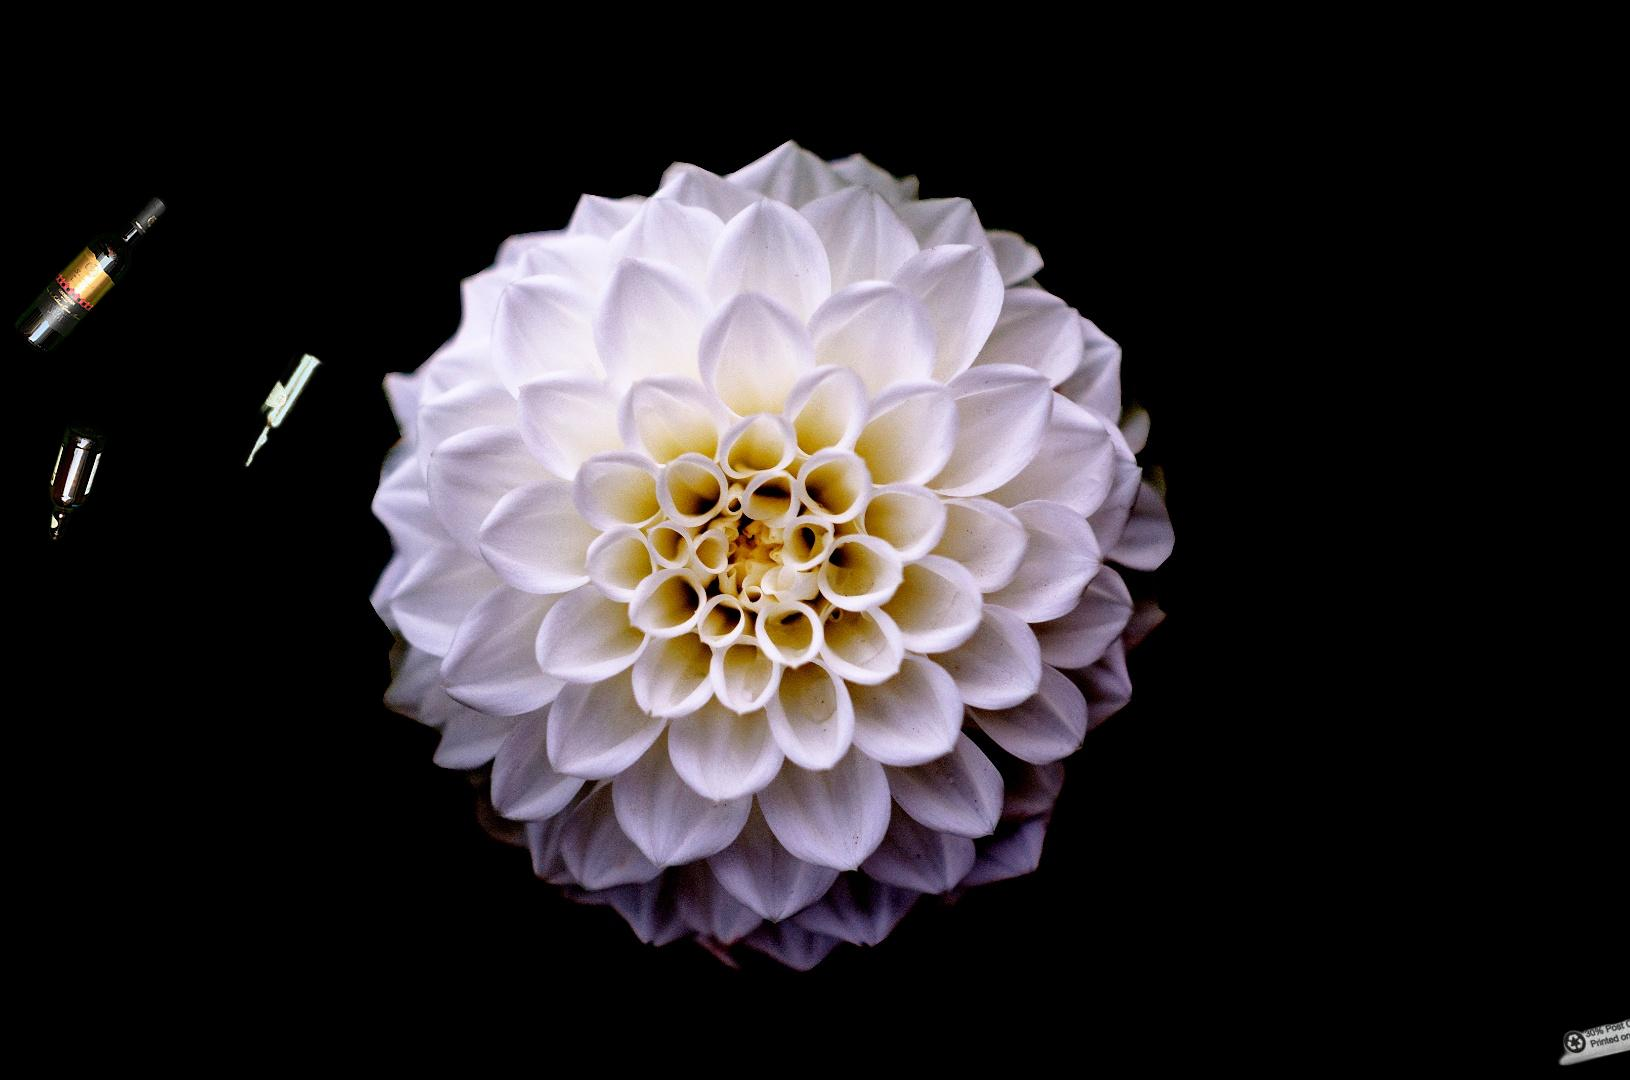glass: (11, 190, 334, 546)
paper: (1554, 1000, 1630, 1069)
